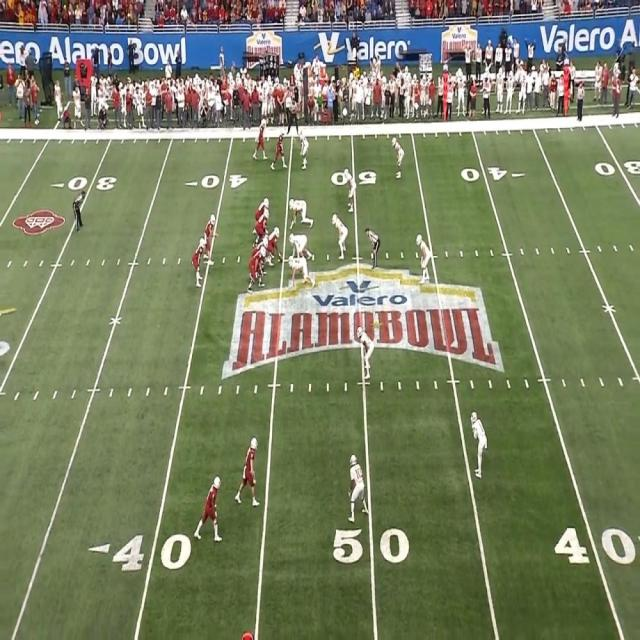center: (266, 227, 284, 266)
db: (471, 415, 489, 474), (351, 452, 366, 513), (417, 232, 432, 286), (391, 136, 404, 179), (299, 132, 310, 170)
lb: (358, 327, 376, 380), (343, 171, 357, 212)
qb: (203, 211, 219, 266)
